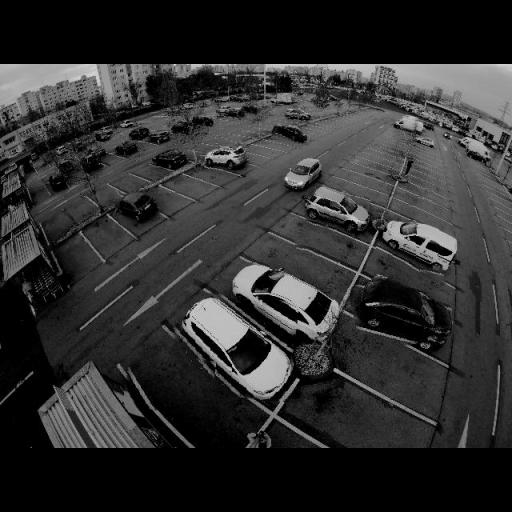busy: (170, 293, 297, 400), (350, 270, 454, 352), (228, 262, 334, 338), (376, 220, 456, 265), (305, 189, 372, 232), (114, 189, 160, 224), (200, 145, 248, 172), (282, 160, 324, 190), (271, 124, 311, 144), (151, 150, 188, 170), (45, 172, 72, 193), (462, 147, 492, 165), (284, 108, 311, 124), (114, 141, 139, 157), (169, 120, 193, 134), (193, 112, 215, 126), (82, 158, 102, 172), (130, 128, 150, 142), (148, 132, 170, 144), (413, 136, 435, 147), (241, 104, 261, 114)
free: (124, 351, 214, 415), (324, 398, 391, 444), (348, 344, 401, 378), (272, 250, 318, 276), (374, 262, 420, 288), (294, 227, 332, 250), (56, 242, 90, 267), (48, 211, 76, 240), (71, 196, 99, 220), (87, 227, 121, 245), (89, 186, 119, 206), (152, 194, 178, 209), (215, 136, 238, 150), (174, 181, 200, 193), (342, 184, 366, 197), (118, 179, 141, 191), (347, 176, 371, 186), (408, 197, 428, 209), (198, 171, 221, 181), (32, 190, 50, 202), (142, 170, 164, 179), (250, 146, 270, 155), (418, 192, 435, 202), (373, 171, 389, 181), (102, 155, 116, 163), (420, 181, 428, 192)
